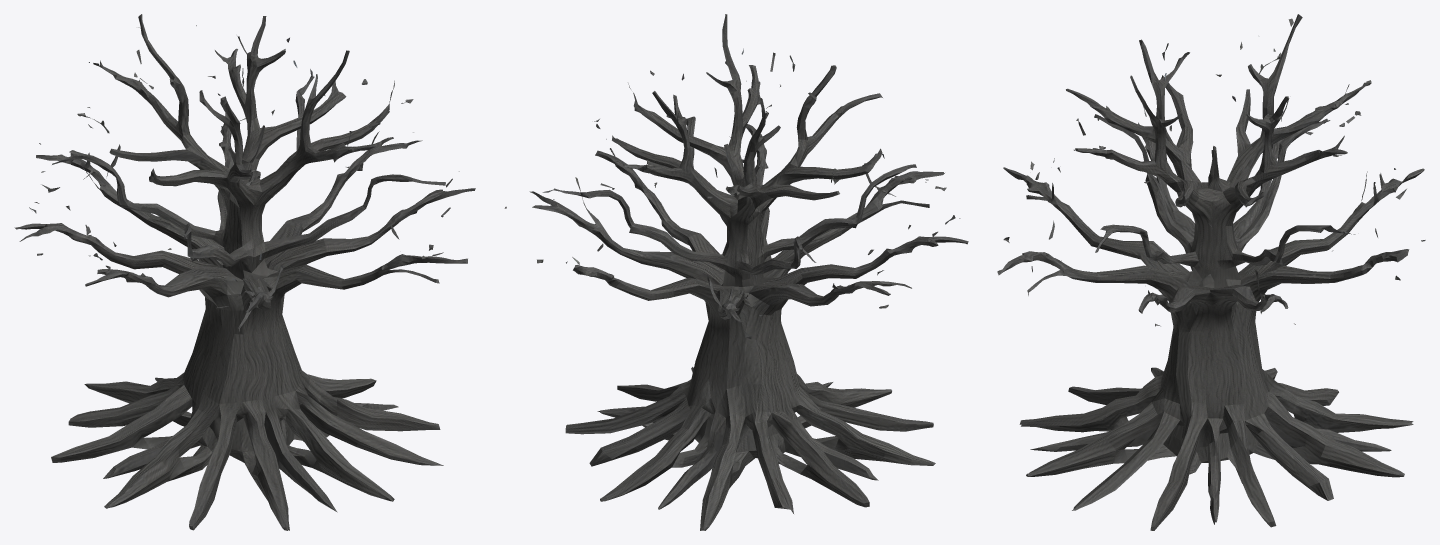
The model's file is wh-reachtree-a.glb.
3 views of the same model, side by side, from view 1: azimuth 30°, elevation 25°; view 2: azimuth 150°, elevation 25°; view 3: azimuth 270°, elevation 25° (orthographic). The views are drawn at different scales.
Size of the model in its own units: 1.63 by 1.57 by 1.49.
1 material, 1 textured.
